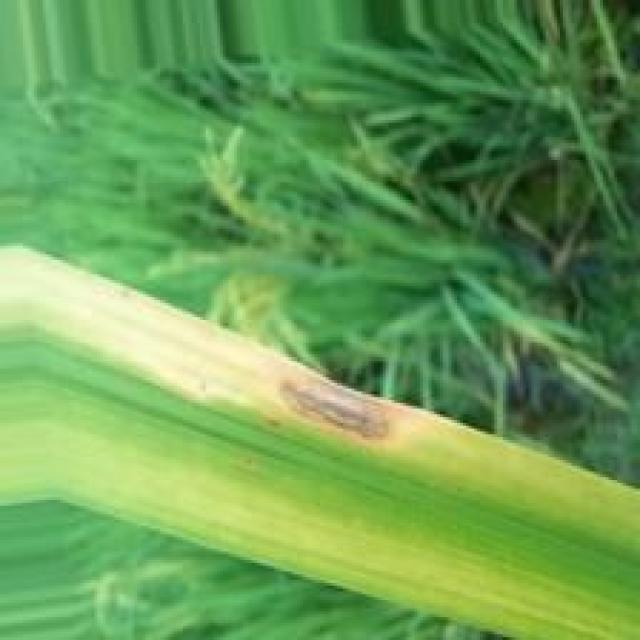Leaf_Blast: (0, 242, 434, 461)
